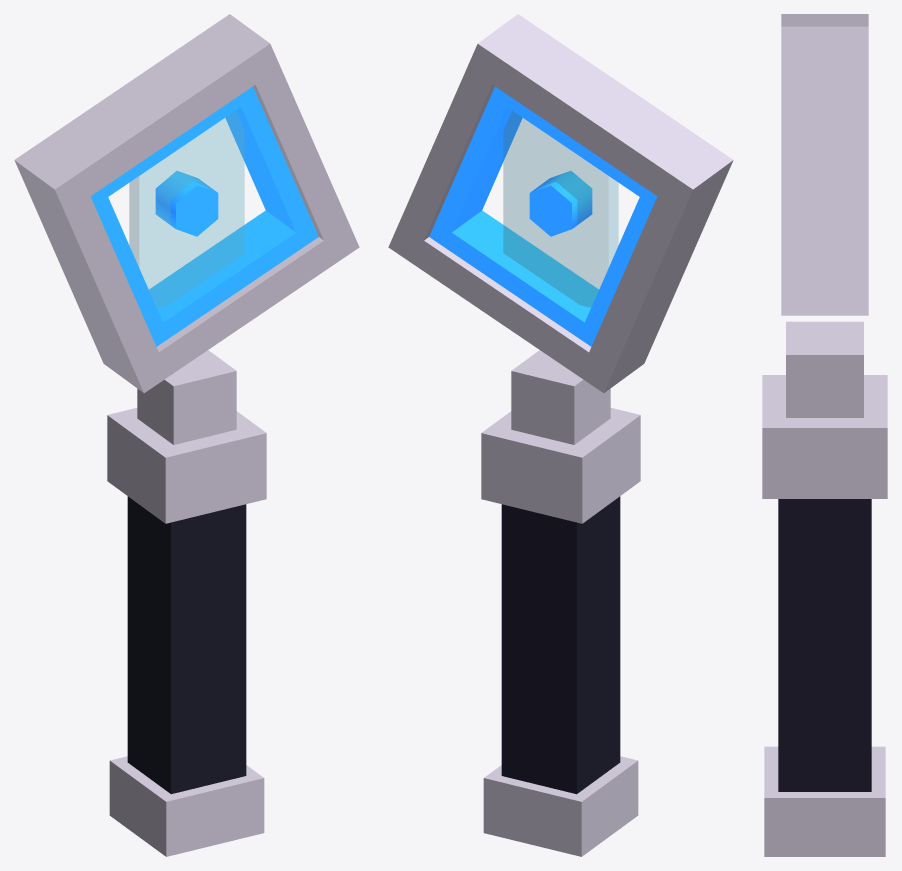
Rendered from scanner_ring.lod1.glb.
3 views of the same model, side by side, from view 1: azimuth 30°, elevation 25°; view 2: azimuth 150°, elevation 25°; view 3: azimuth 270°, elevation 25° (orthographic). The views are drawn at different scales.
Parts seen in each view (by area): view 1: item.scanner_ring.body; view 2: item.scanner_ring.body; view 3: item.scanner_ring.body.
Boxes of the visible parts, x1,y1,x2,y2 form: item.scanner_ring.body: (14,14,359,856); item.scanner_ring.body: (388,14,733,856); item.scanner_ring.body: (762,14,887,856).
Bounding box in the file's own units: 0.2714 × 0.6638 × 0.0901.
